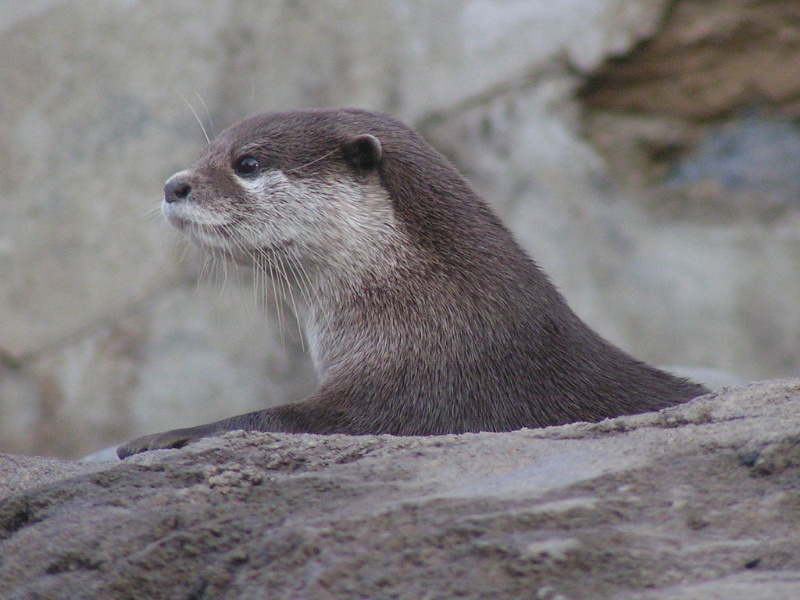minkish: (112, 98, 742, 467)
